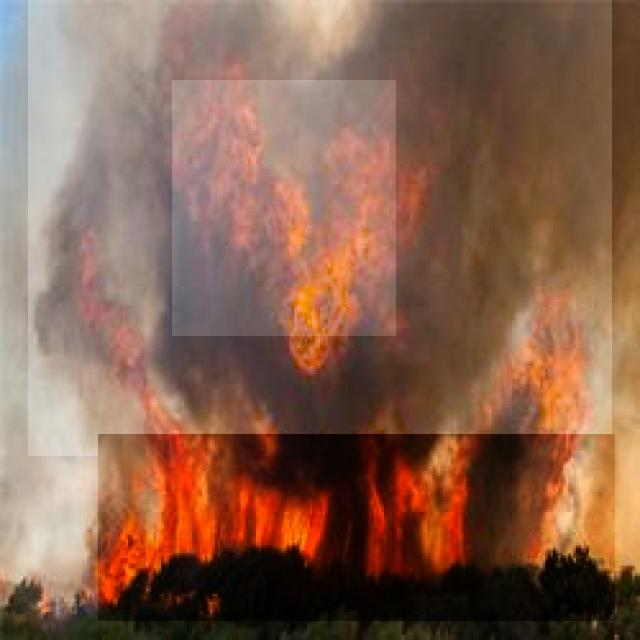Fire: (98, 434, 615, 621), (172, 80, 396, 337)
Smoke: (28, 0, 612, 456)
